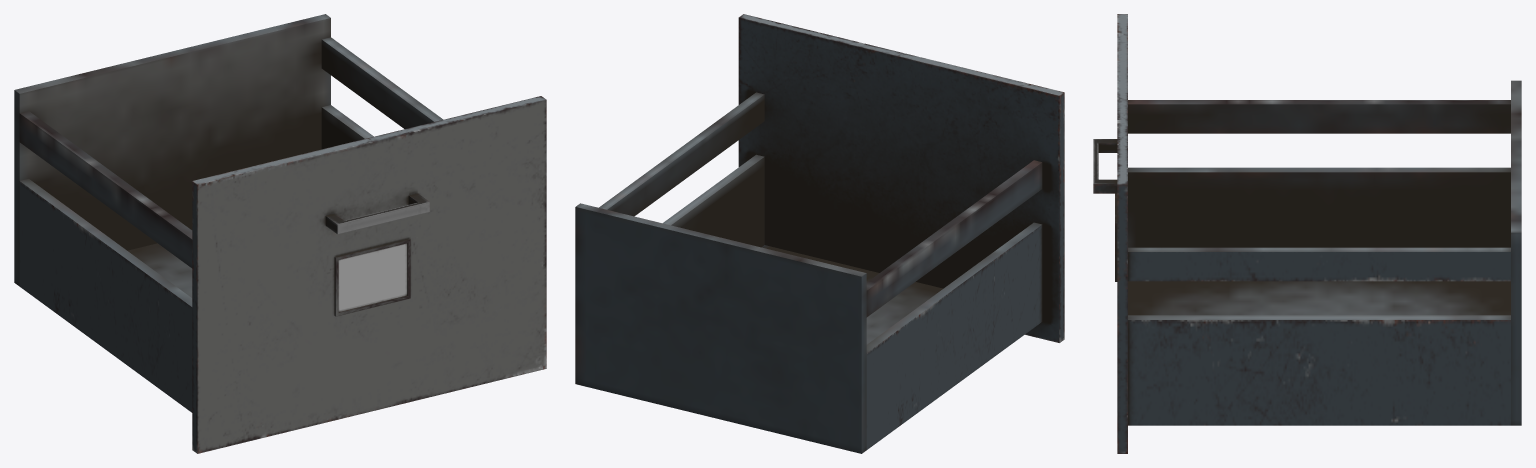
Rendered from cabinet_drawer.glb.
3 views of the same model, side by side, from view 1: azimuth 30°, elevation 25°; view 2: azimuth 150°, elevation 25°; view 3: azimuth 270°, elevation 25° (orthographic). The views are drawn at different scales.
Visible parts, largest first — view 1: 04_5__0.001; view 2: 04_5__0.001; view 3: 04_5__0.001.
Part boxes in pixels (x1,y1,x2,y2): 04_5__0.001: (14,14,546,453); 04_5__0.001: (575,14,1064,453); 04_5__0.001: (1093,14,1521,453).
Size of the model in its own units: 0.3775 by 0.2779 by 0.4006.
Materials: 1 (1 with a texture image).
